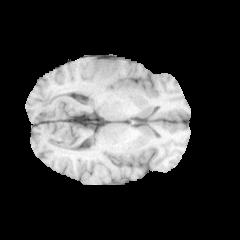glioma: (58, 63, 146, 100)
